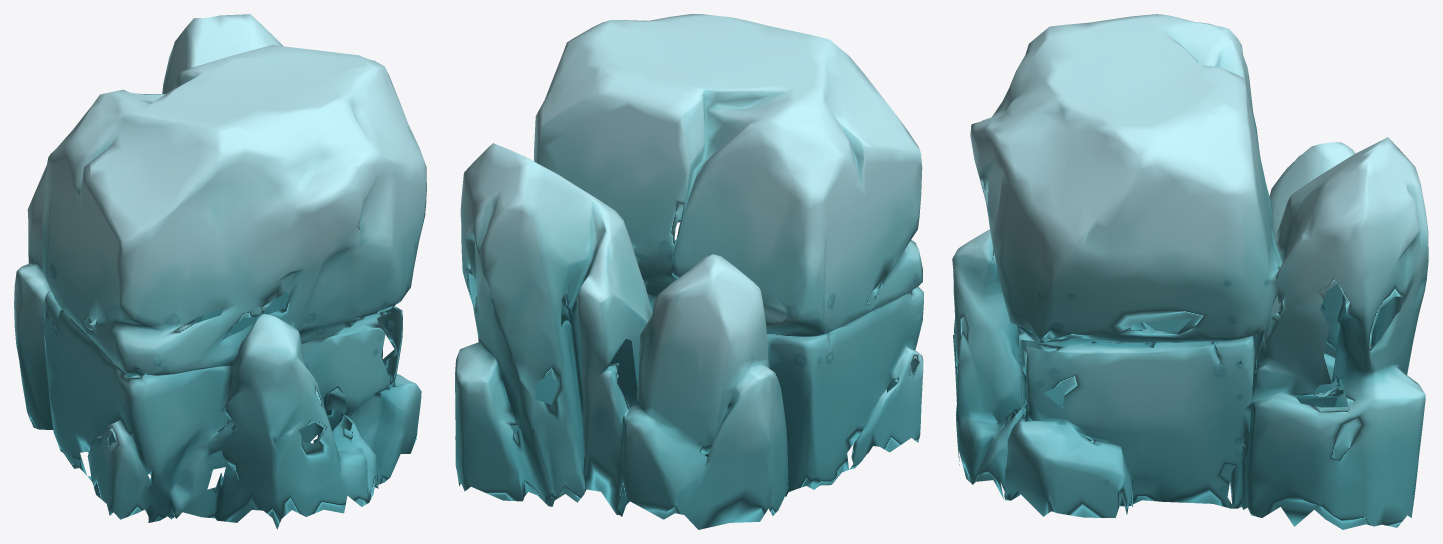
Rendered from led-kristally-variant.glb.
The picture shows the model from 3 angles, left to right: view 1: azimuth 30°, elevation 25°; view 2: azimuth 150°, elevation 25°; view 3: azimuth 270°, elevation 25°; orthographic projection. The views are drawn at different scales.
Visible parts, largest first — view 1: geometry_0; view 2: geometry_0; view 3: geometry_0.
Part boxes in pixels (bbox=[...]): geometry_0: bbox=[14, 14, 426, 529]; geometry_0: bbox=[455, 14, 923, 529]; geometry_0: bbox=[952, 14, 1428, 529].
Bounding box in the file's own units: 0.8228 × 0.9619 × 0.9975.
1 material, 1 textured.
